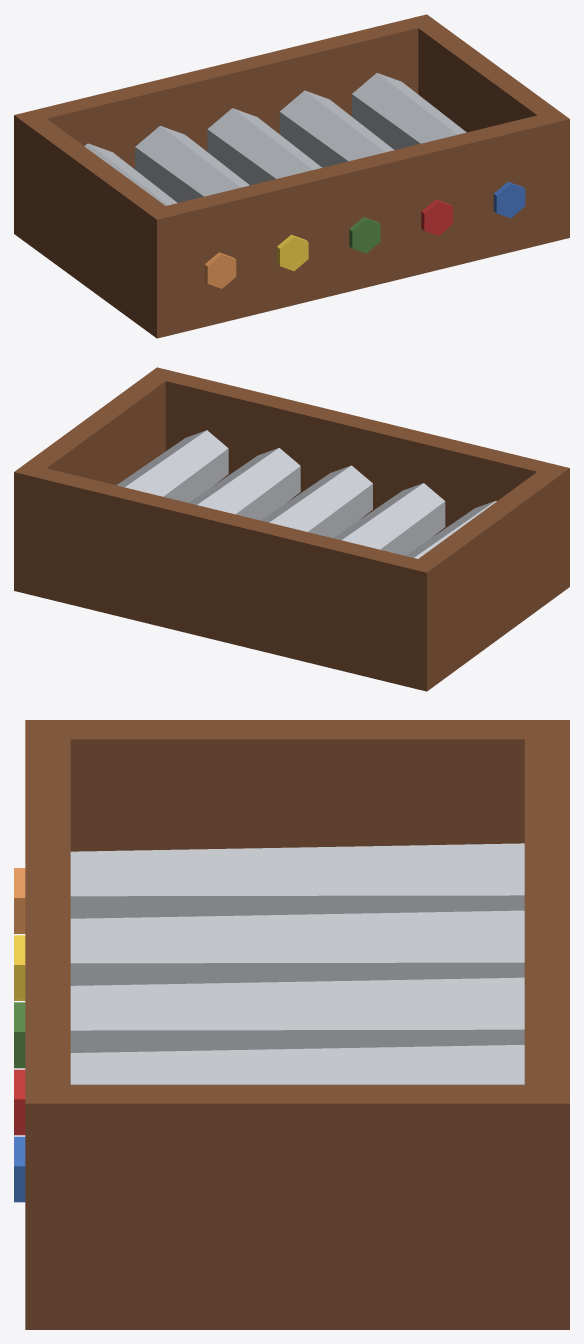
The model's file is paint_tubes.glb.
3 views of the same model, one above another, from view 1: azimuth 30°, elevation 25°; view 2: azimuth 150°, elevation 25°; view 3: azimuth 270°, elevation 25° (orthographic). The views are drawn at different scales.
Visible parts, largest first — view 1: sides_tube_box, tubes_tube_metal (×5), bottom_tube_box, caps; view 2: sides_tube_box, tubes_tube_metal (×5), bottom_tube_box; view 3: sides_tube_box, tubes_tube_metal (×4), bottom_tube_box, caps.
Part boxes in pixels (box(x1,y1,x2,y2)): sides_tube_box: box(14, 14, 569, 327); tubes_tube_metal (×5): box(84, 73, 466, 205); bottom_tube_box: box(14, 216, 569, 338); caps: box(204, 182, 525, 288); sides_tube_box: box(14, 367, 569, 680); tubes_tube_metal (×5): box(116, 430, 496, 558); bottom_tube_box: box(14, 571, 569, 691); sides_tube_box: box(25, 720, 569, 1309); tubes_tube_metal (×4): box(70, 843, 524, 1084); bottom_tube_box: box(25, 1288, 569, 1329); caps: box(14, 868, 25, 1202).
Size of the model in its own units: 0.2 by 0.055 by 0.1225.
